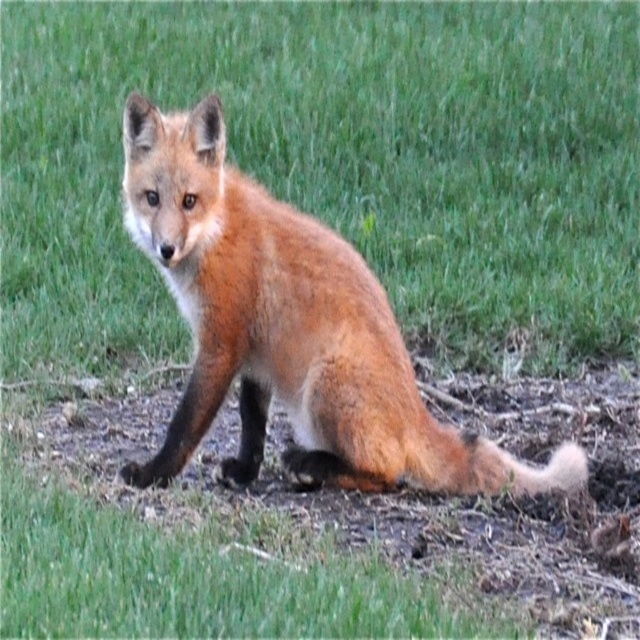Fox: (112, 90, 590, 498)
